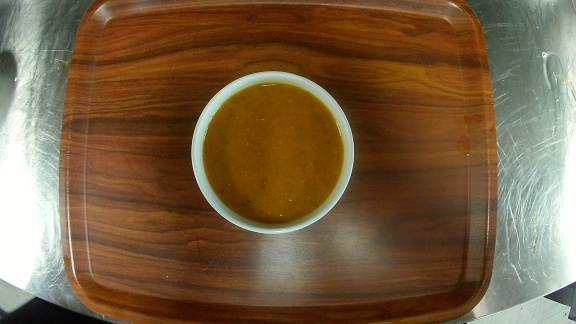ezogelin: (190, 69, 356, 235)
